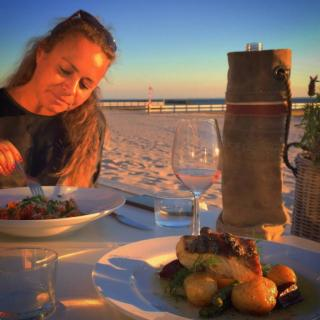Potato: (231, 276, 278, 314), (183, 270, 218, 304), (270, 267, 295, 289)
